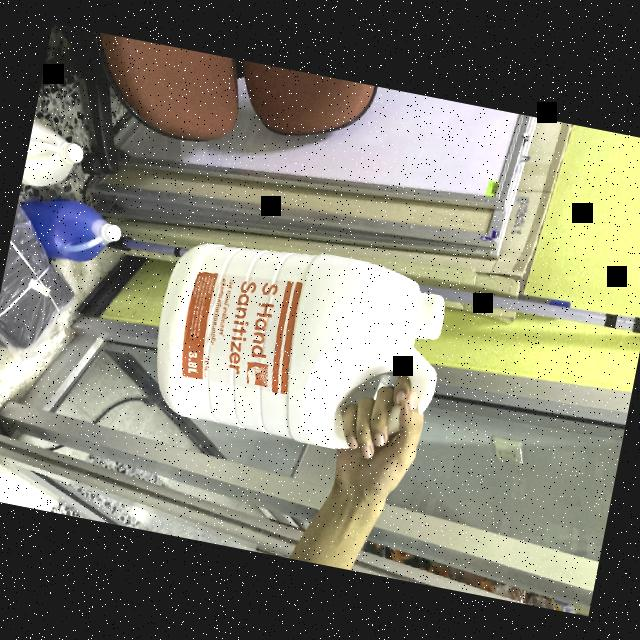chemical_plastic_gallon: (138, 224, 458, 466)
